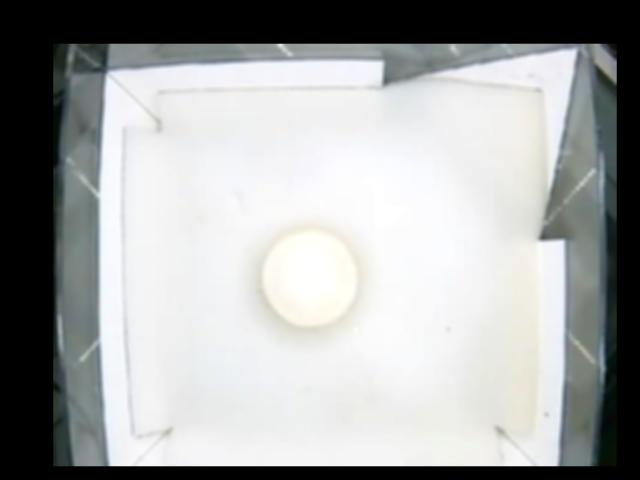Mooli: (259, 227, 357, 325)
